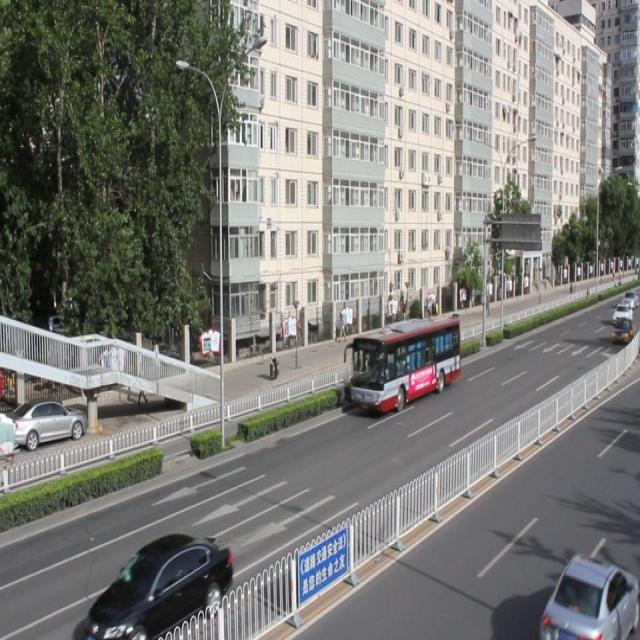car: (82, 528, 232, 640), (539, 548, 639, 640)
van: (350, 316, 461, 414)
